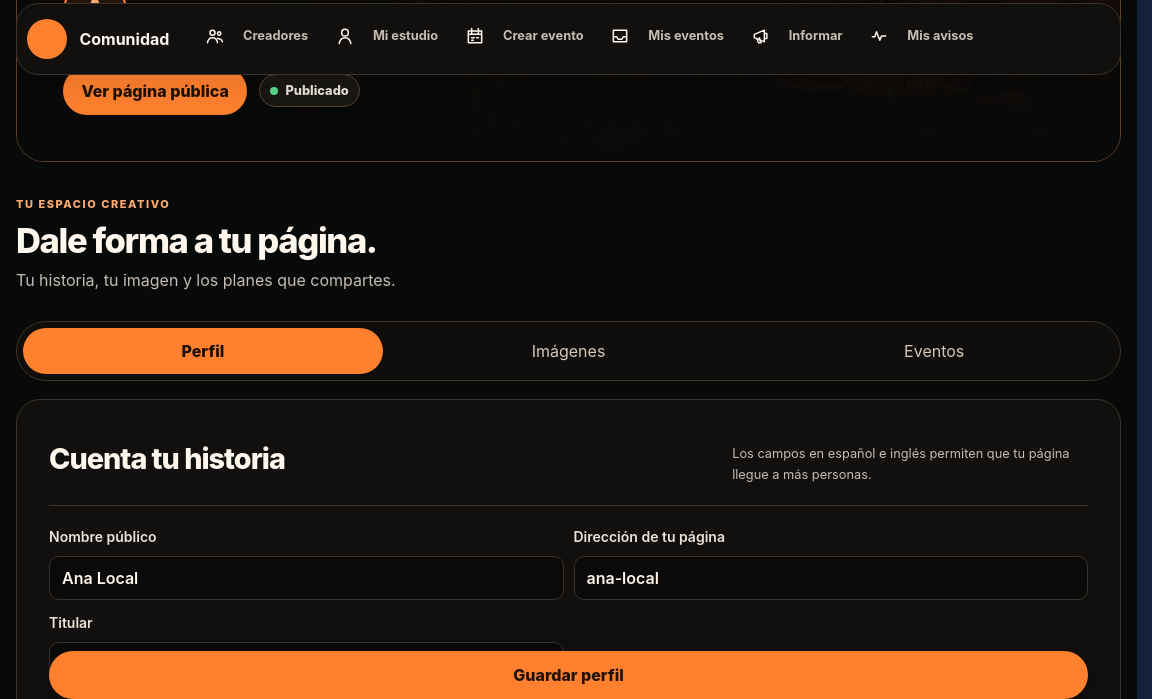
Test: does not label a failed es event history as empty
The width and height of the screenshot is (1152, 699).
(page scrolled)
Click the tab "Eventos": (934, 352) [754, 328, 1114, 374]
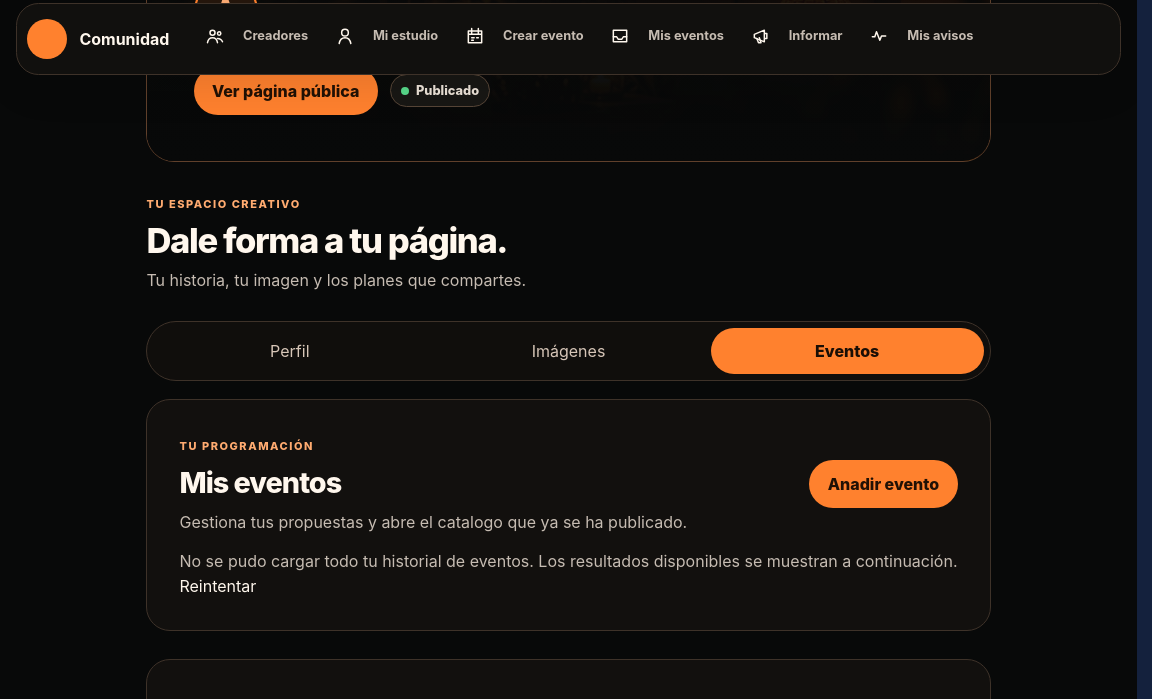
Expected: the message shows "No se pudo cargar todo tu historial", [180, 550, 958, 570]
